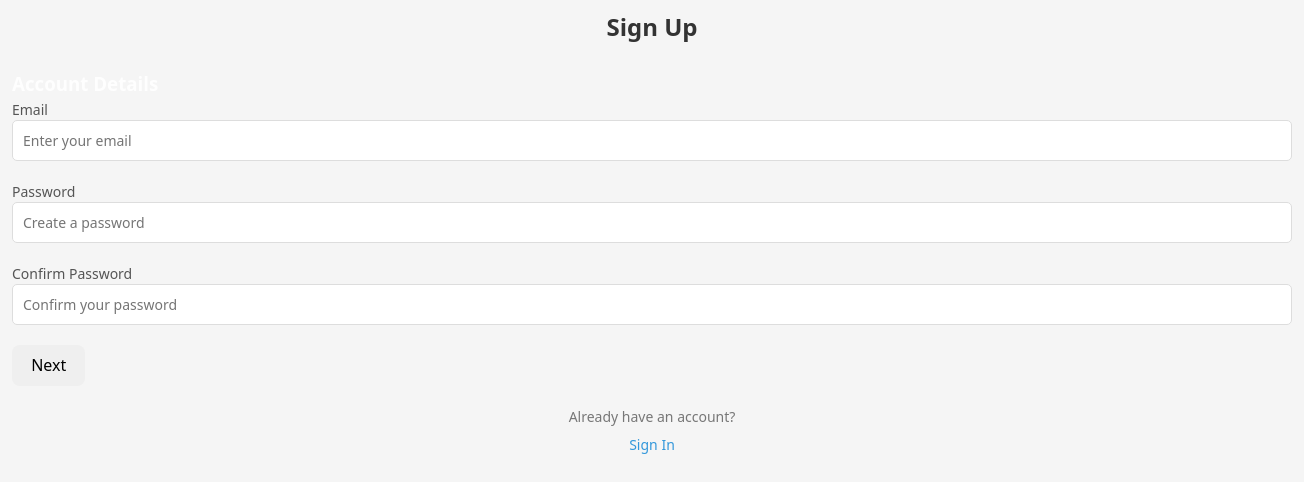
Test: SignUpForm › goes back a step when Back button is clicked
The image size is (1304, 482).
Type "test@example.com" into the field labelled "Email". click: (652, 140)
box: [12,120,1292,160]
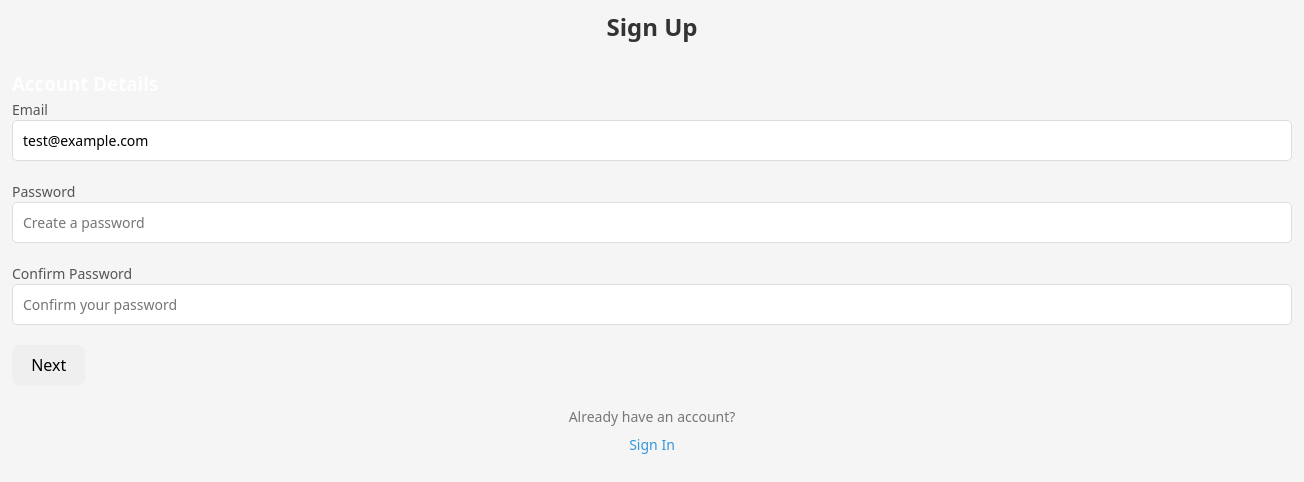
Type "123456" into the password field labelled "Password". click: (652, 222)
box: [12,202,1292,242]
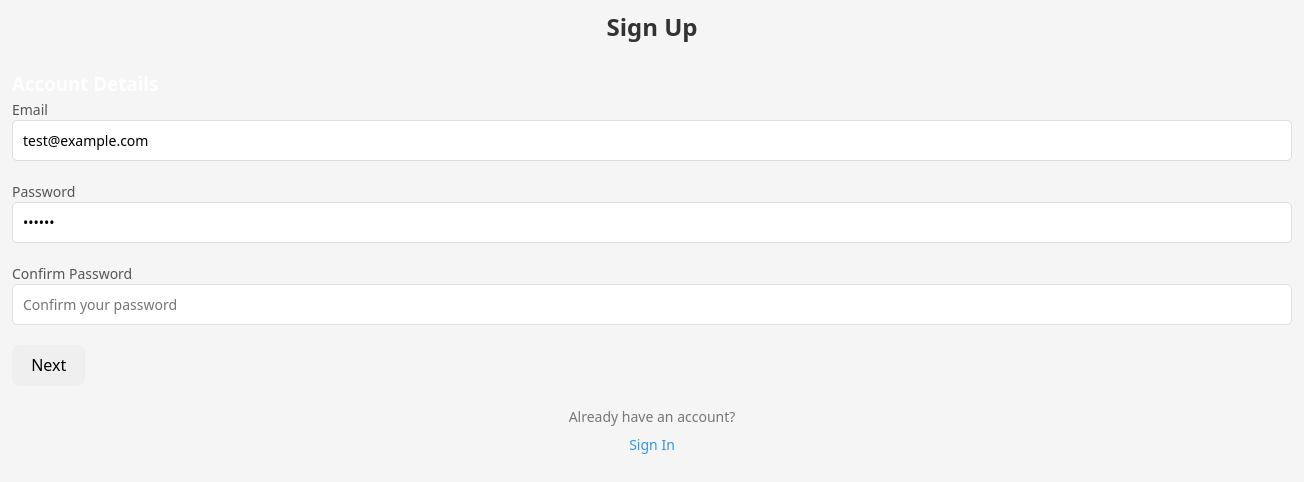
Type "123456" into the password field labelled "Confirm Password". click: (652, 304)
box: [12,284,1292,324]
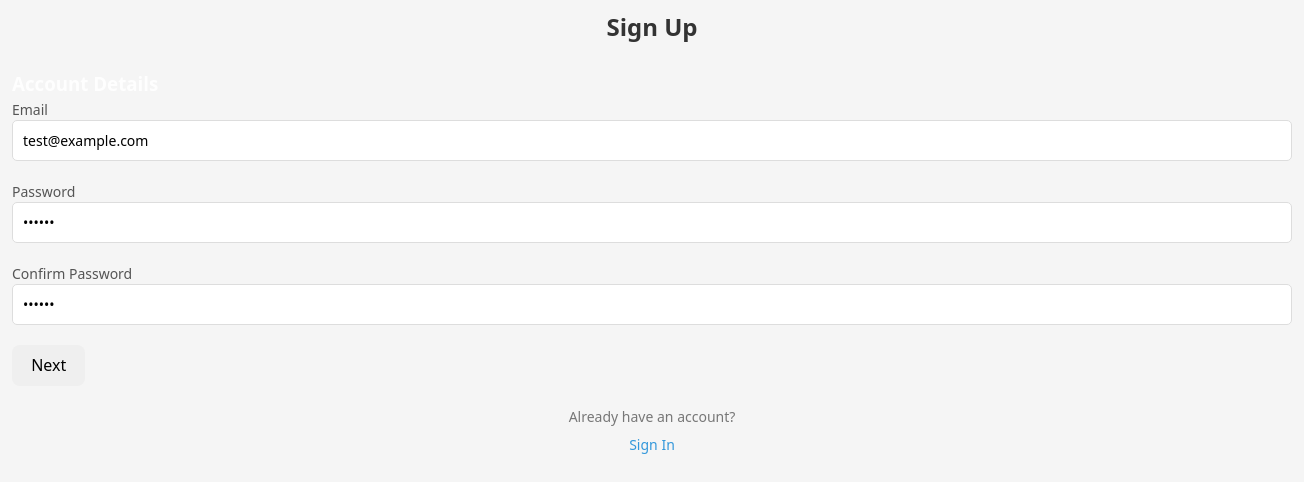
Click the button "Next". click: (49, 365)
box: [12,344,86,386]
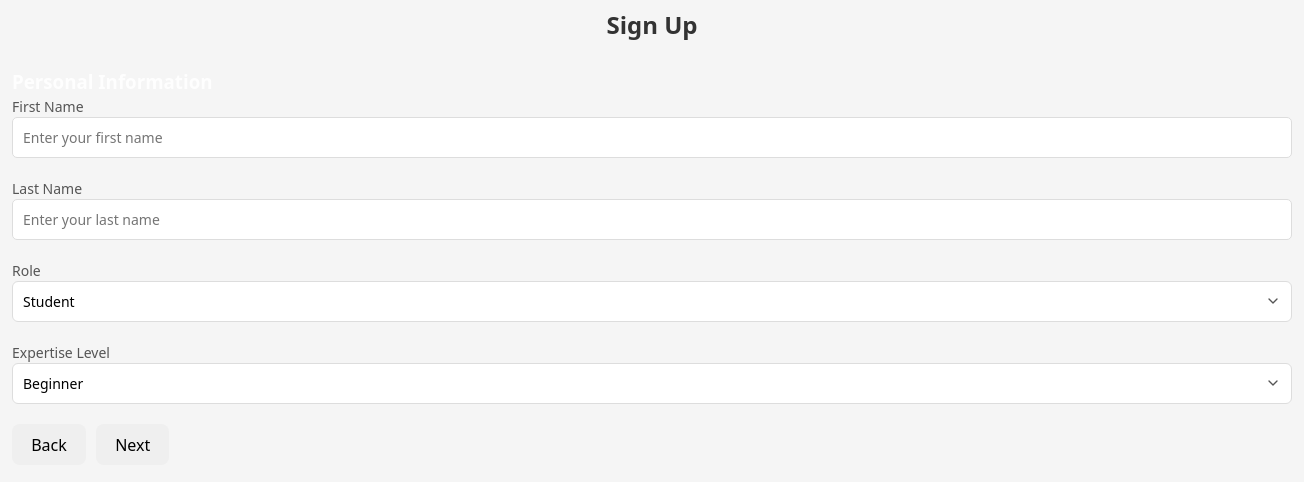
Result: the field labelled "First Name" is shown at [12,117,1292,158]
Click the button "Back". click: (49, 444)
box: [12,424,86,465]
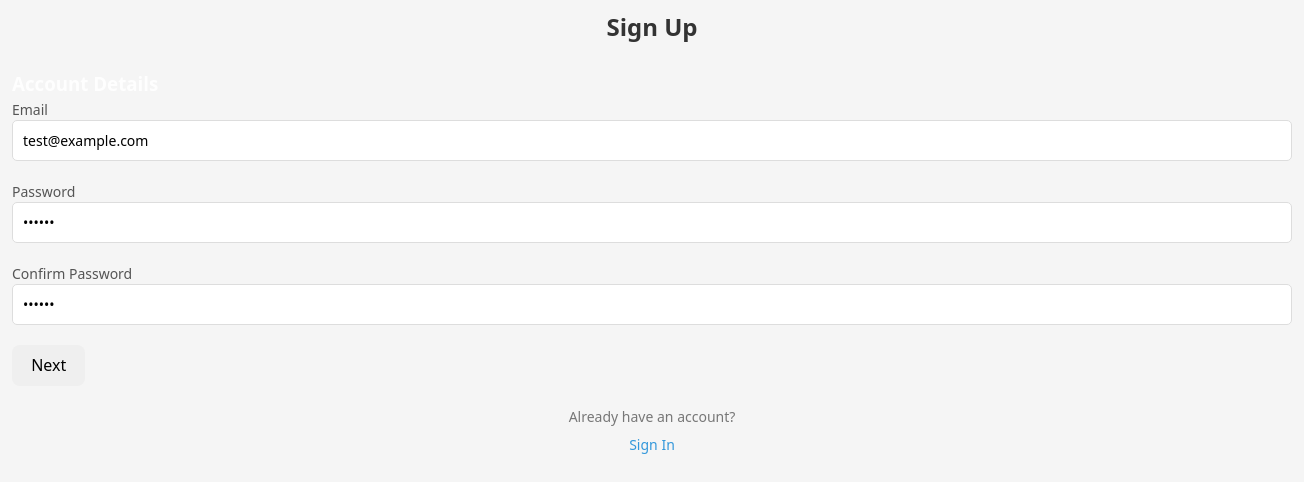
Result: the field labelled "Email" is shown at [12,120,1292,160]
